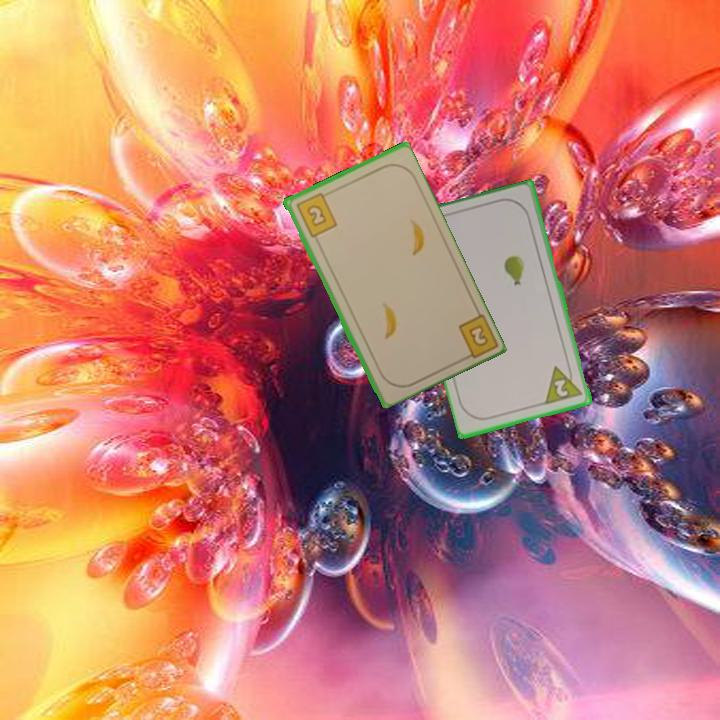2b: (454, 309, 499, 364), (292, 188, 339, 240)
2p: (542, 360, 586, 407)
